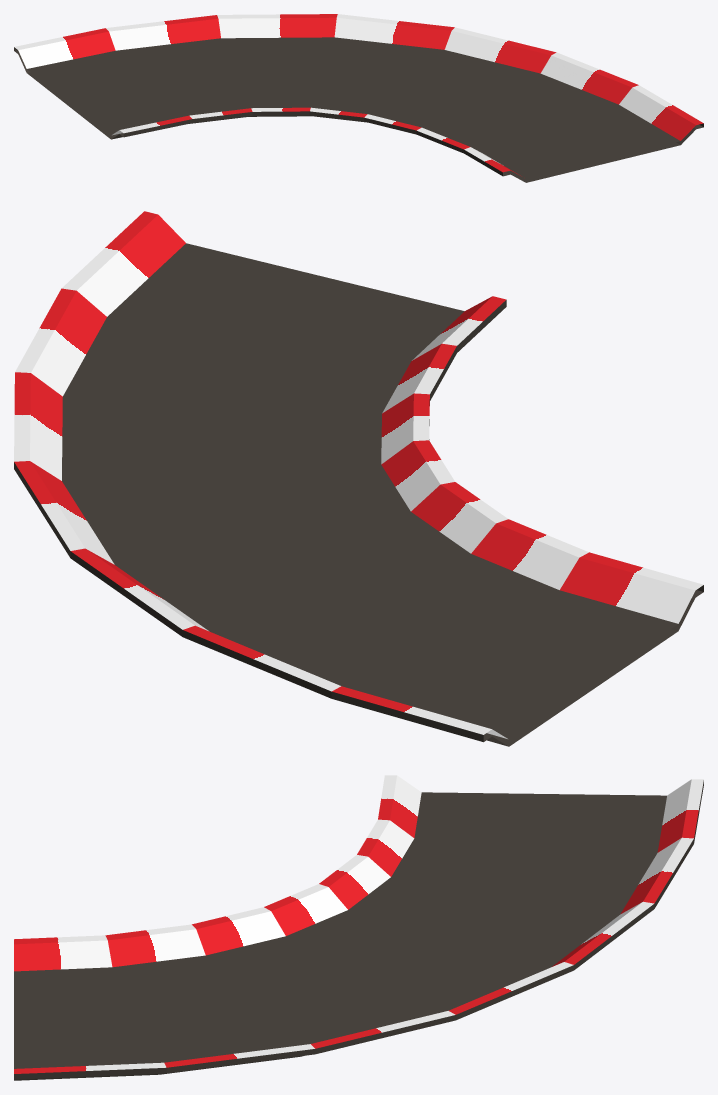
The model's file is corner_road.fbx.
The picture shows the model from 3 angles, top to bottom: view 1: azimuth 30°, elevation 25°; view 2: azimuth 150°, elevation 25°; view 3: azimuth 270°, elevation 25°; orthographic projection. The views are drawn at different scales.
Parts seen in each view (by area): view 1: Road_Corner; view 2: Road_Corner; view 3: Road_Corner.
Part boxes in pixels (x1,y1,x2,y2): Road_Corner: (14, 14, 703, 182); Road_Corner: (14, 211, 703, 746); Road_Corner: (14, 775, 703, 1080).
Bounding box in the file's own units: 1152 × 40 × 1124.
